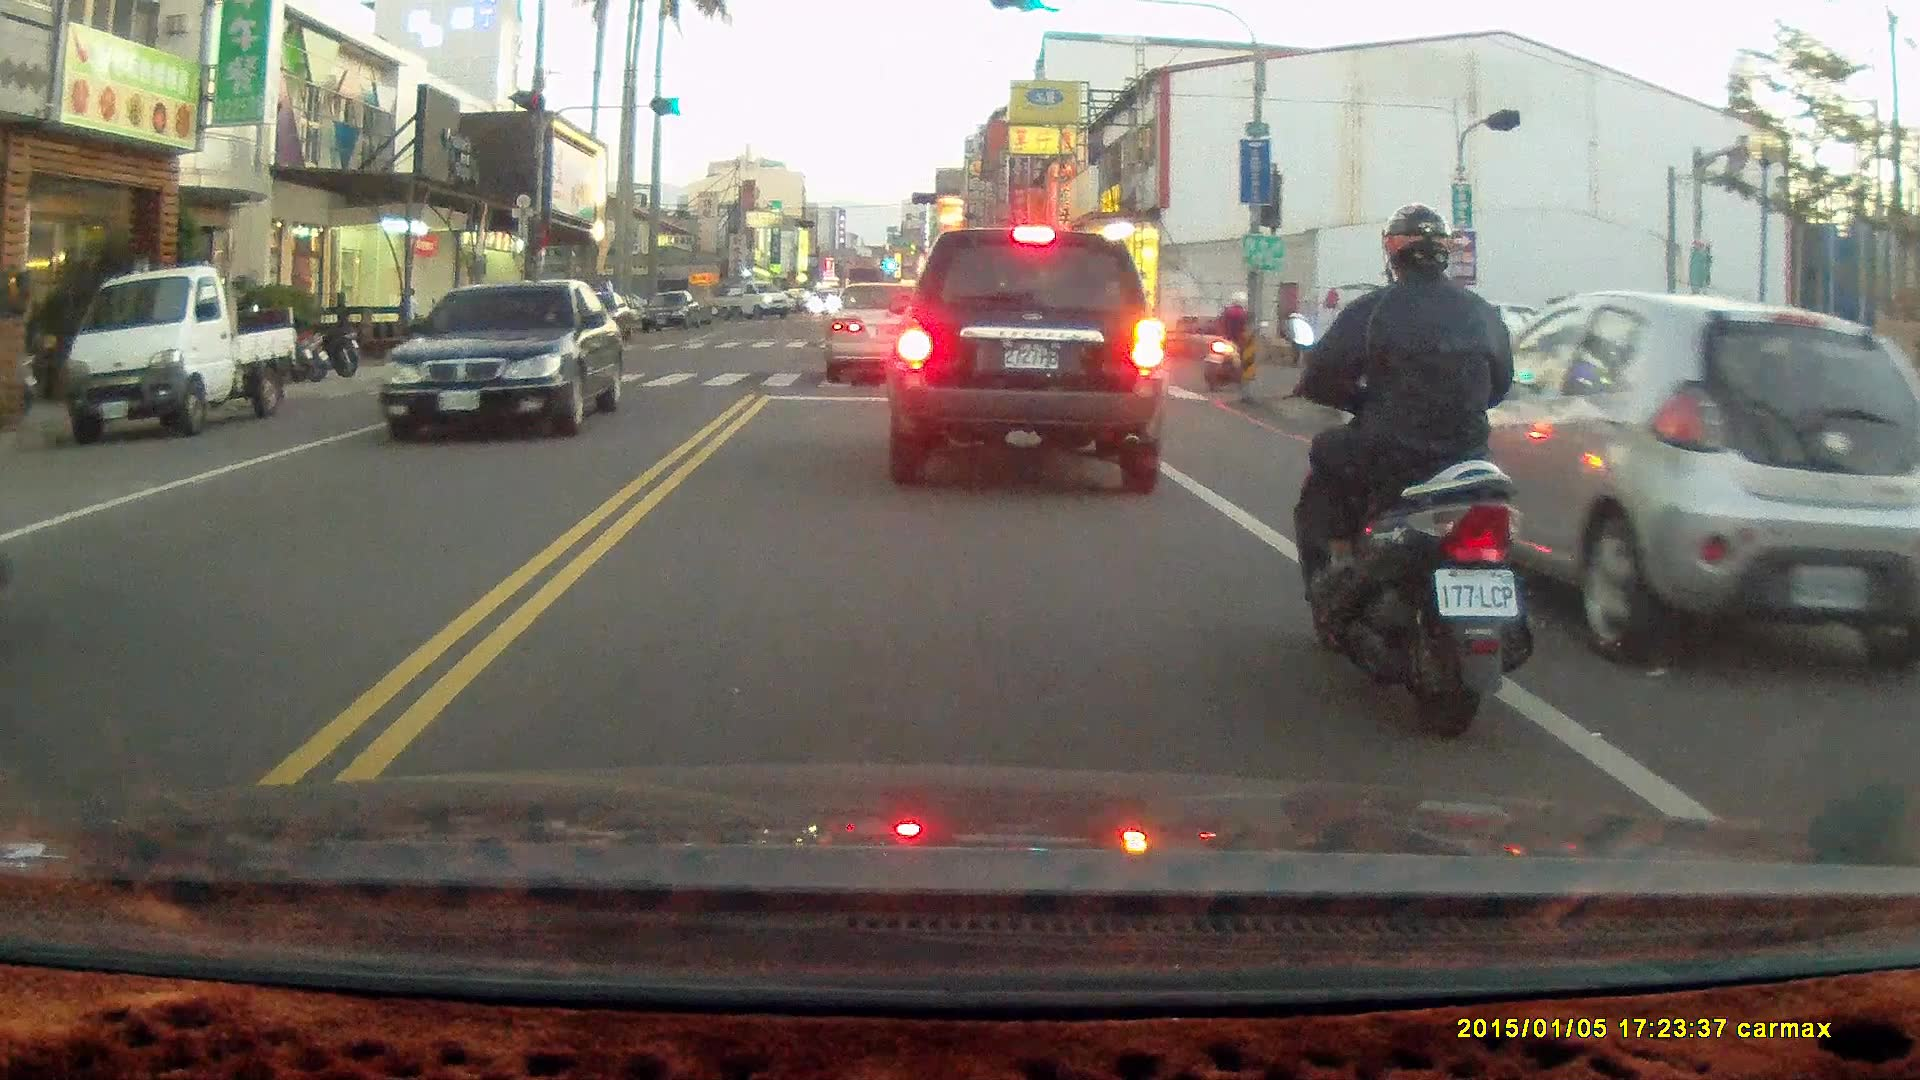rider: (1274, 202, 1540, 744), (1201, 289, 1265, 393)
vehicle: (1442, 294, 1920, 676), (881, 224, 1168, 496), (48, 268, 298, 443), (380, 277, 625, 438), (822, 281, 937, 384), (637, 290, 706, 335)
